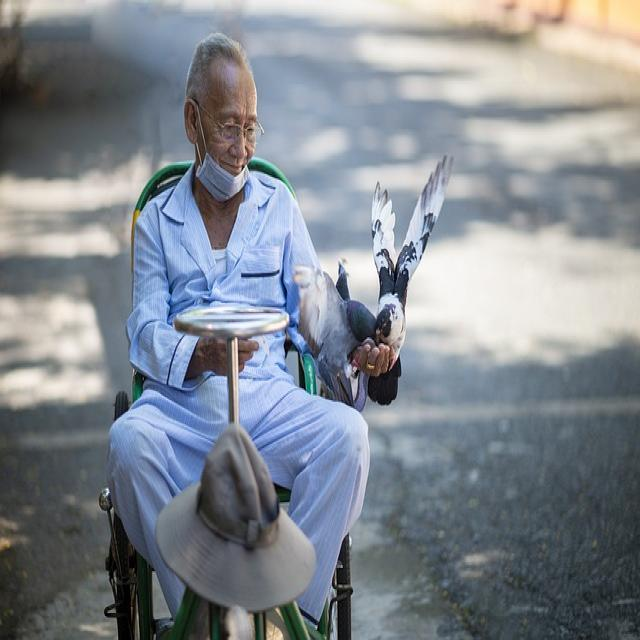Real human 2: (110, 24, 397, 640)
